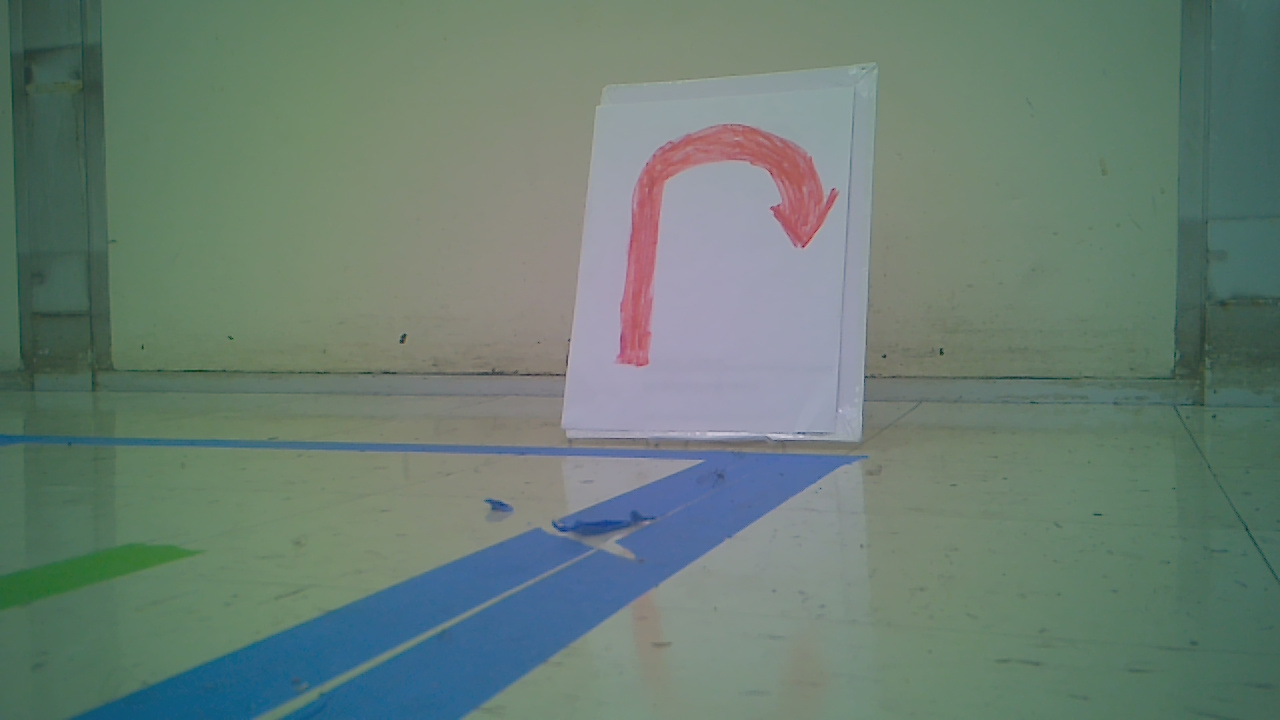uturn: (619, 123, 847, 367)
